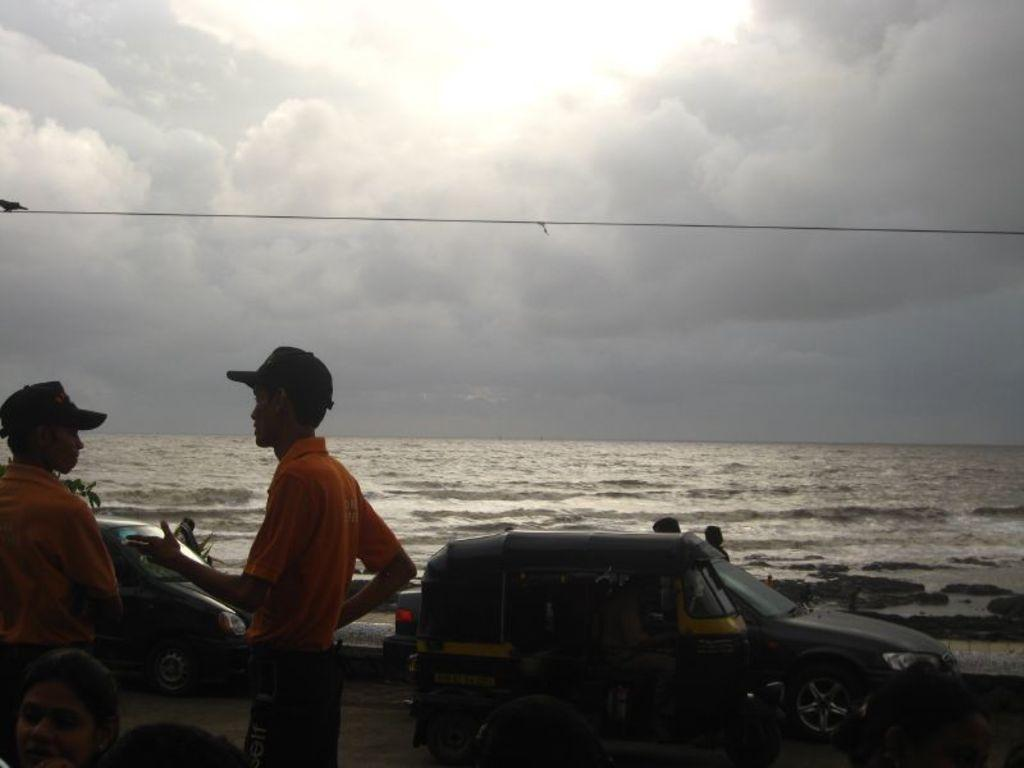Hat: (0, 379, 106, 440), (228, 345, 332, 406)
